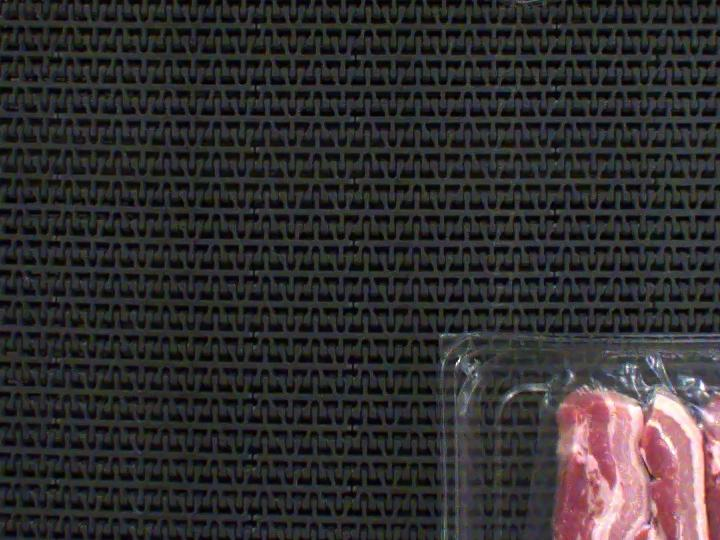unsealed: (522, 337, 720, 540)
